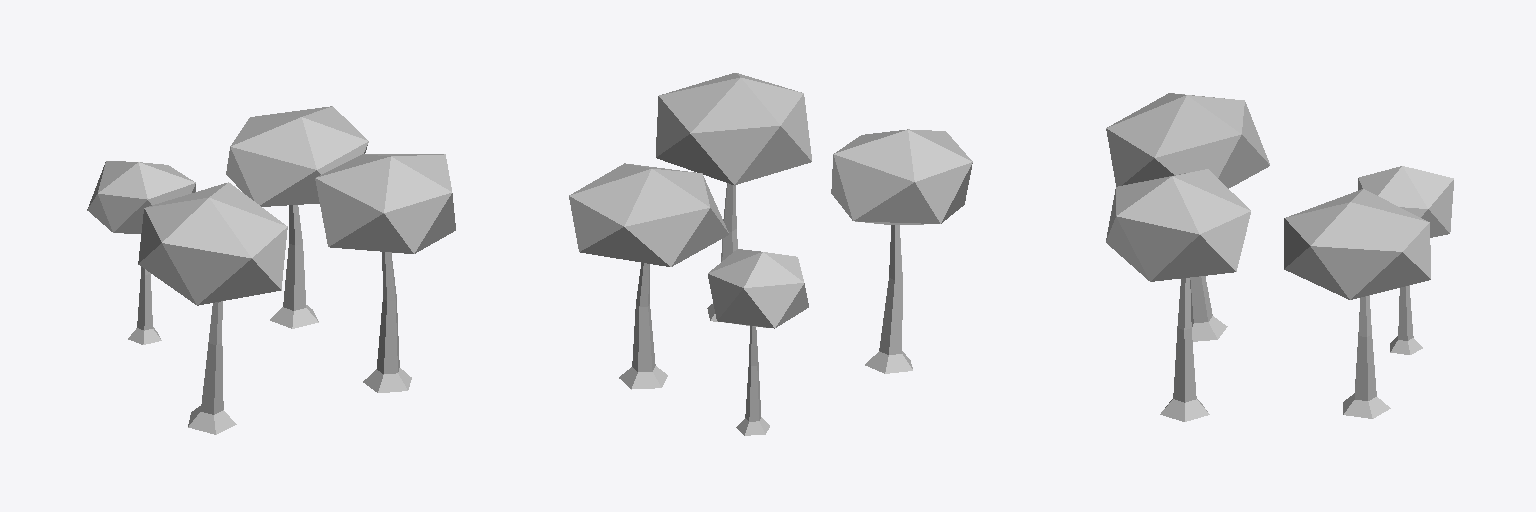
The model's file is trees.obj.
3 renders of one model, left to right at view 1: azimuth 30°, elevation 25°; view 2: azimuth 150°, elevation 25°; view 3: azimuth 270°, elevation 25°, orthographic.
Visible parts, largest first — view 1: trees; view 2: trees; view 3: trees.
Boxes of the visible parts, x1,y1,x2,y2 form: trees: [87, 106, 455, 434]; trees: [569, 73, 972, 435]; trees: [1106, 93, 1453, 421].
Size of the model in its own units: 16.94 by 12.91 by 17.1.